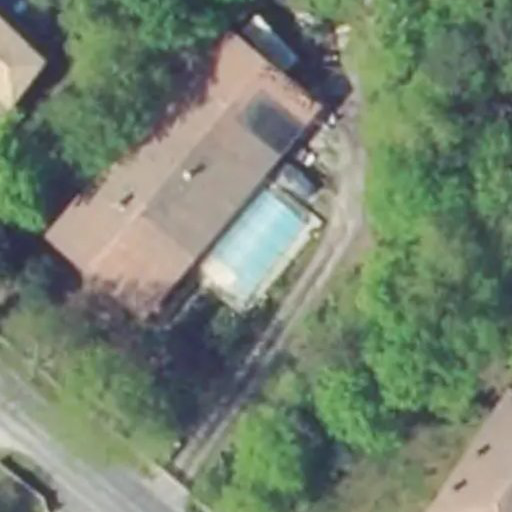pool: (202, 194, 321, 298)
